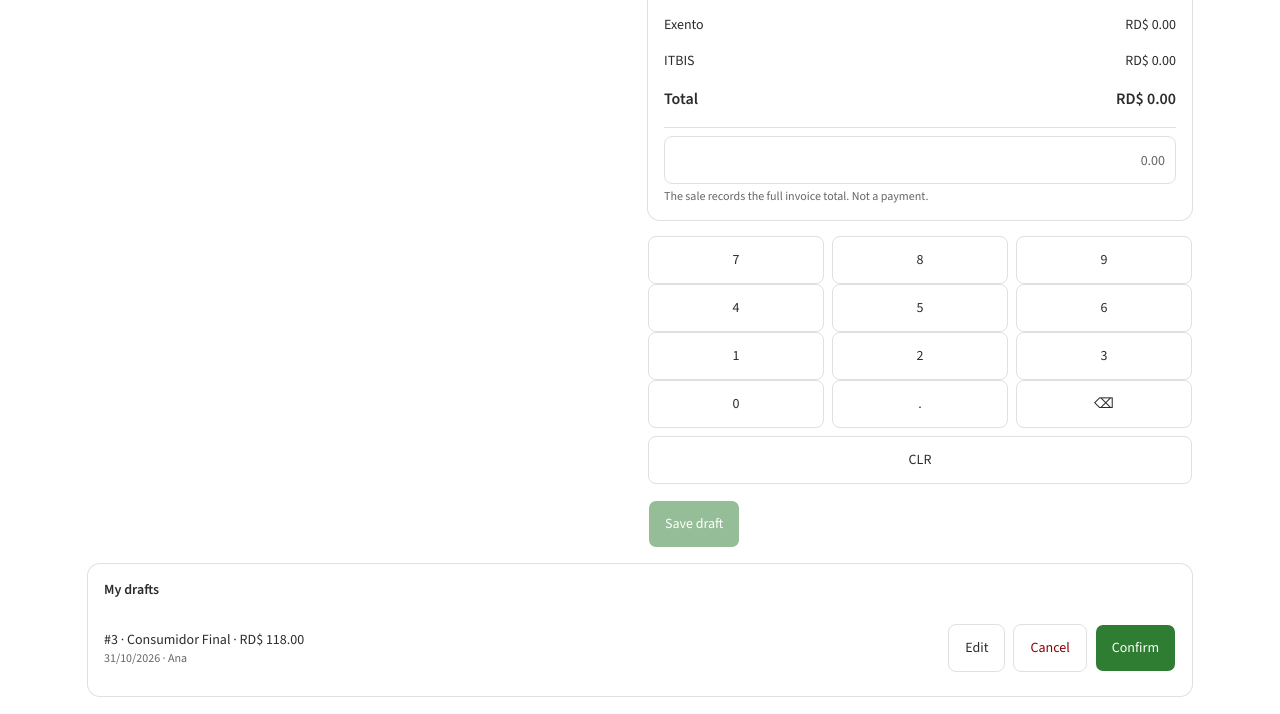
Test: POS confirm control (R-V14 5c slice) › renders the distinct rejection surface for CREDITO_NO_HABILITADO
The width and height of the screenshot is (1280, 714).
(page scrolled)
Click the button with aria-label "Confirm draft 3" at (1135,648), box [1095,624,1176,672]
(page scrolled)
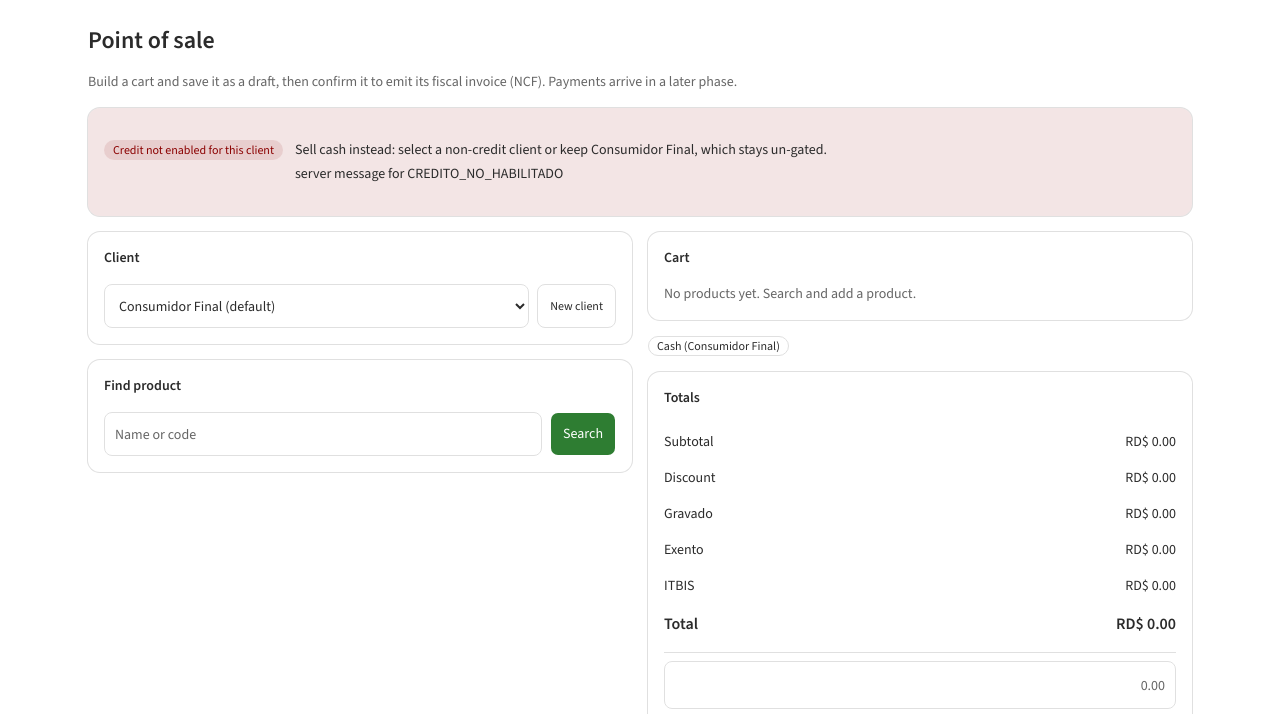
Expected: the text "Credit not enabled for this client" is shown, [104,140,283,160]
Expected: the text "Sell cash instead: select a non-credit client or keep Consumidor Final, which stays un-gated." is shown, [295,140,827,159]
